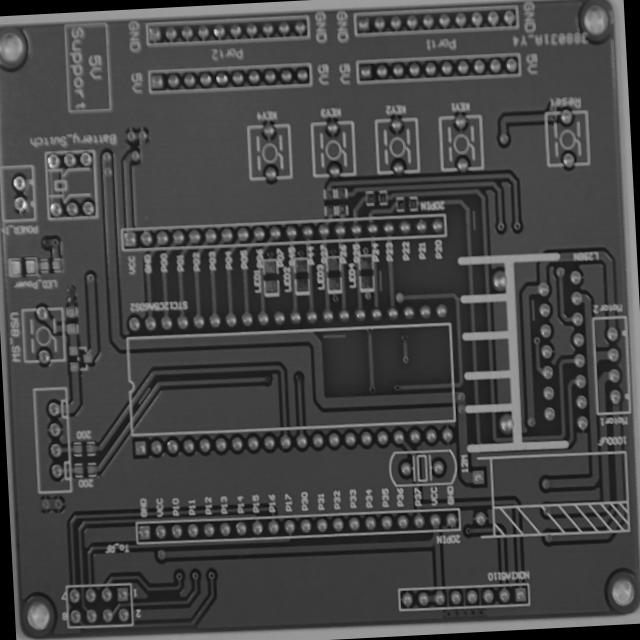spurious_copper: (132, 382, 160, 407), (320, 326, 350, 346), (524, 292, 540, 324), (466, 204, 482, 235), (374, 267, 388, 297)
